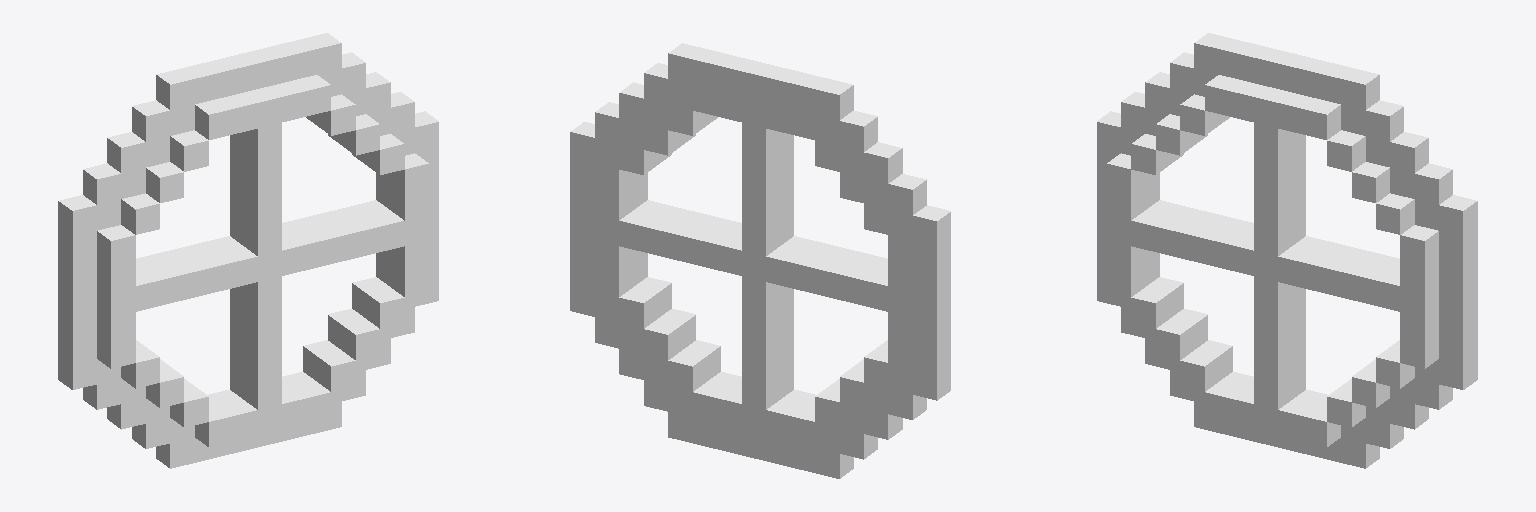
The model's file is fenetre2.obj.
3 renders of one model, left to right at view 1: azimuth 30°, elevation 25°; view 2: azimuth 150°, elevation 25°; view 3: azimuth 330°, elevation 25°, orthographic.
Visible parts, largest first — view 1: object 1; view 2: object 1; view 3: object 1.
Part boxes in pixels (left/top/right/bottom): object 1: left=58, top=33, right=438, bottom=468; object 1: left=570, top=43, right=950, bottom=478; object 1: left=1097, top=33, right=1477, bottom=468.
Bounding box in the file's own units: 1.5 × 1.5 × 0.2.